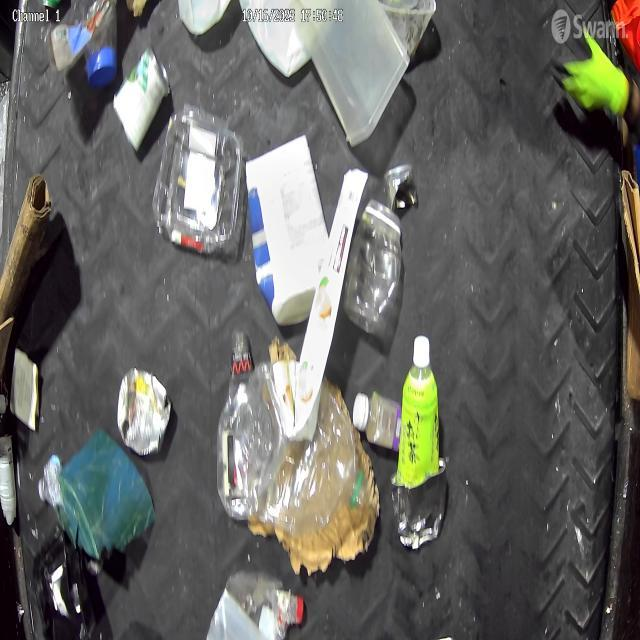can: (112, 45, 168, 154), (116, 366, 172, 458)
plastic_bottle: (238, 360, 372, 533), (224, 567, 305, 640), (352, 390, 403, 452)
